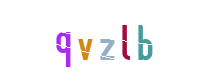B: (90, 0, 170, 80)
L: (85, 0, 165, 80)
Q: (24, 0, 104, 80)
V: (51, 0, 131, 80)
Z: (67, 0, 147, 80)
